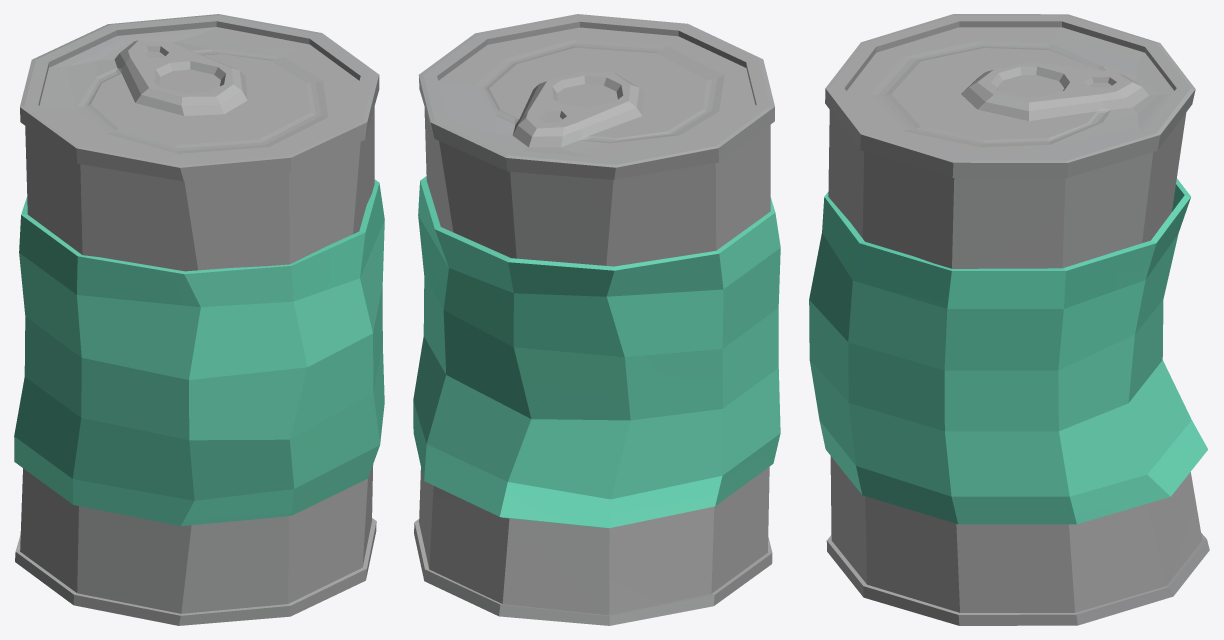
The model's file is can_1_closed.glb.
3 renders of one model, left to right at view 1: azimuth 30°, elevation 25°; view 2: azimuth 150°, elevation 25°; view 3: azimuth 270°, elevation 25°, orthographic.
Visible parts, largest first — view 1: can_1_closed; view 2: can_1_closed; view 3: can_1_closed.
Boxes of the visible parts, x1,y1,x2,y2 form: can_1_closed: (14,14,384,625); can_1_closed: (413,14,780,625); can_1_closed: (809,14,1209,625).
Bounding box in the file's own units: 0.1078 × 0.1537 × 0.1189.
1 material, 1 textured.
